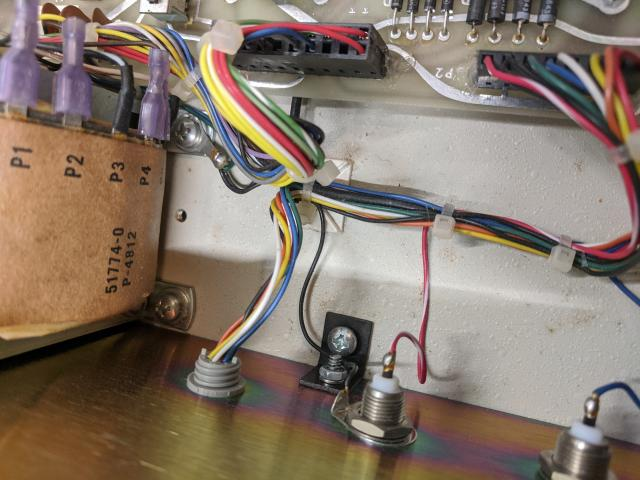CRS: (172, 117, 202, 150), (328, 326, 358, 355), (153, 296, 180, 321)
